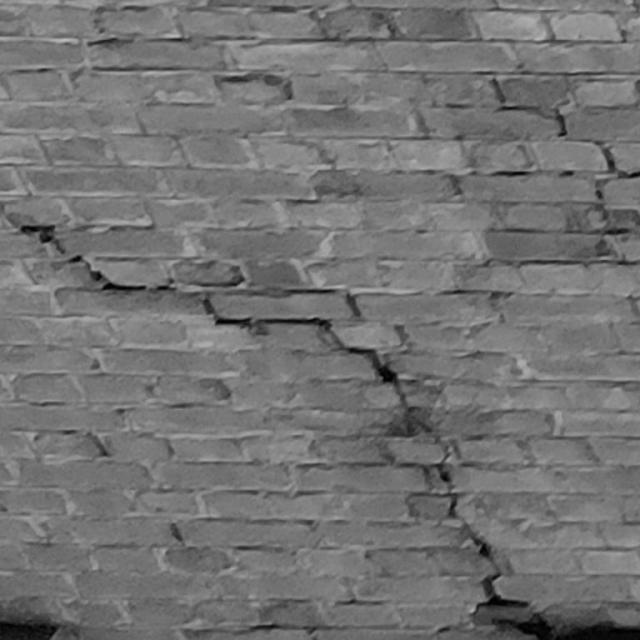crack: (1, 203, 640, 640)
